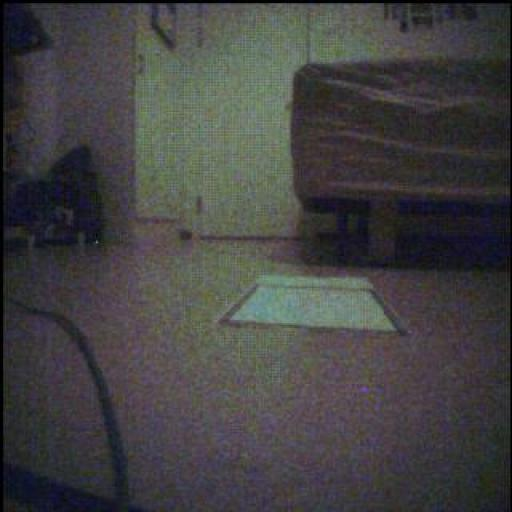pad: (222, 277, 406, 336)
